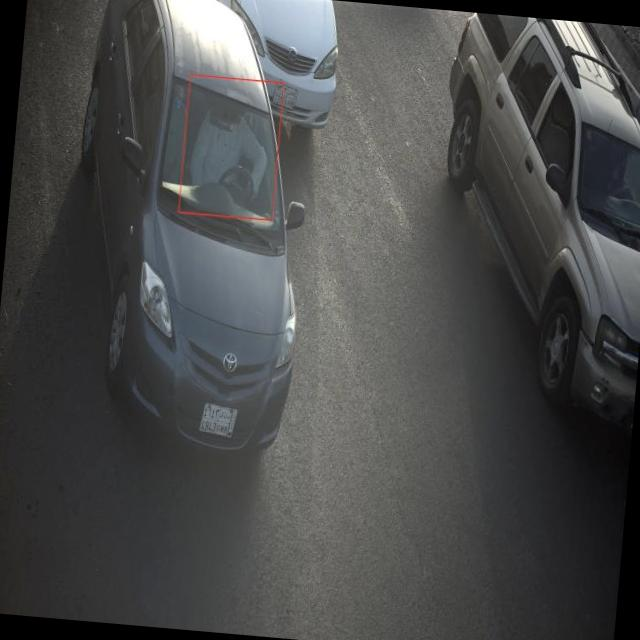person_without_seatbelt: (183, 107, 270, 217)
